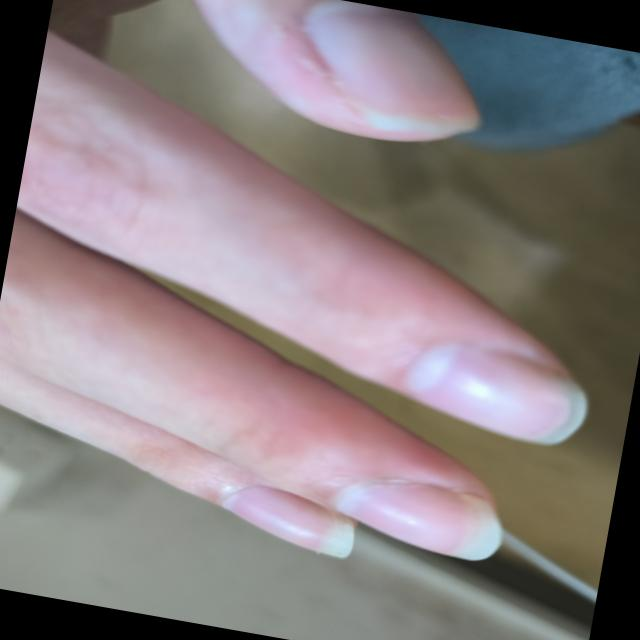Nail: (300, 0, 478, 130), (406, 344, 585, 441), (334, 482, 500, 559), (223, 485, 352, 557)
